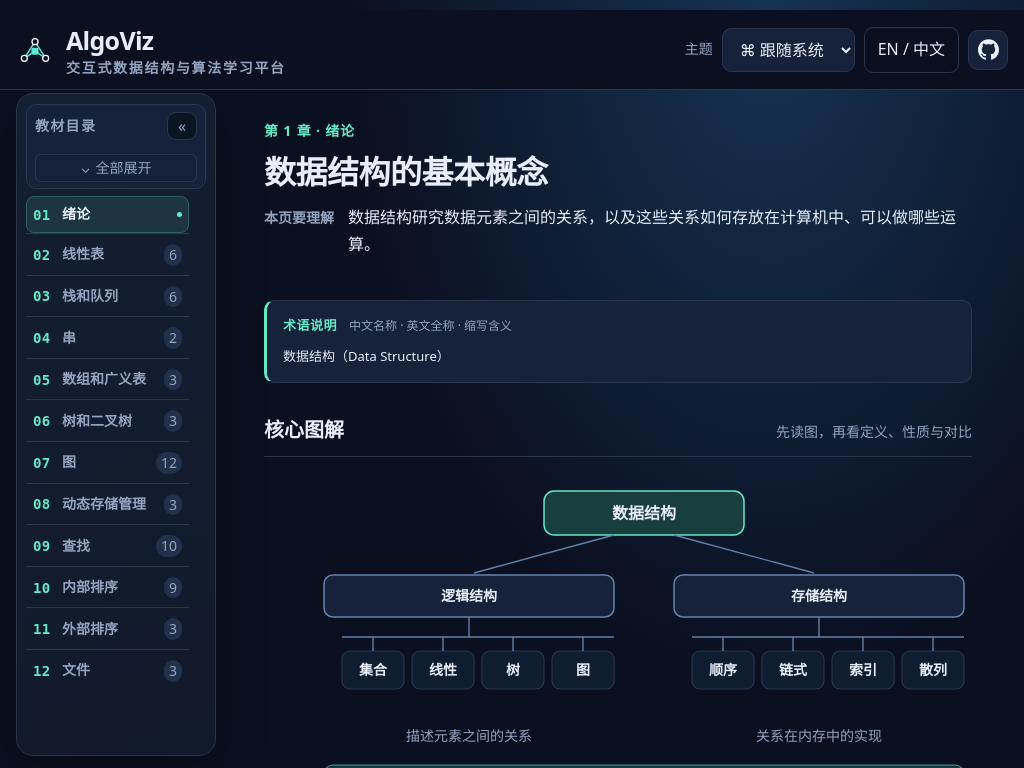
App UI regression (Phase 1) › starts on the data-structure introduction without practice or navigation
The image size is (1024, 768).
Expected: the heading with test id "concept-title" reads "数据结构的基本概念", [264,150,548,193]
Click the button "EN / 中文".
click(911, 50)  # box [864,27,959,72]
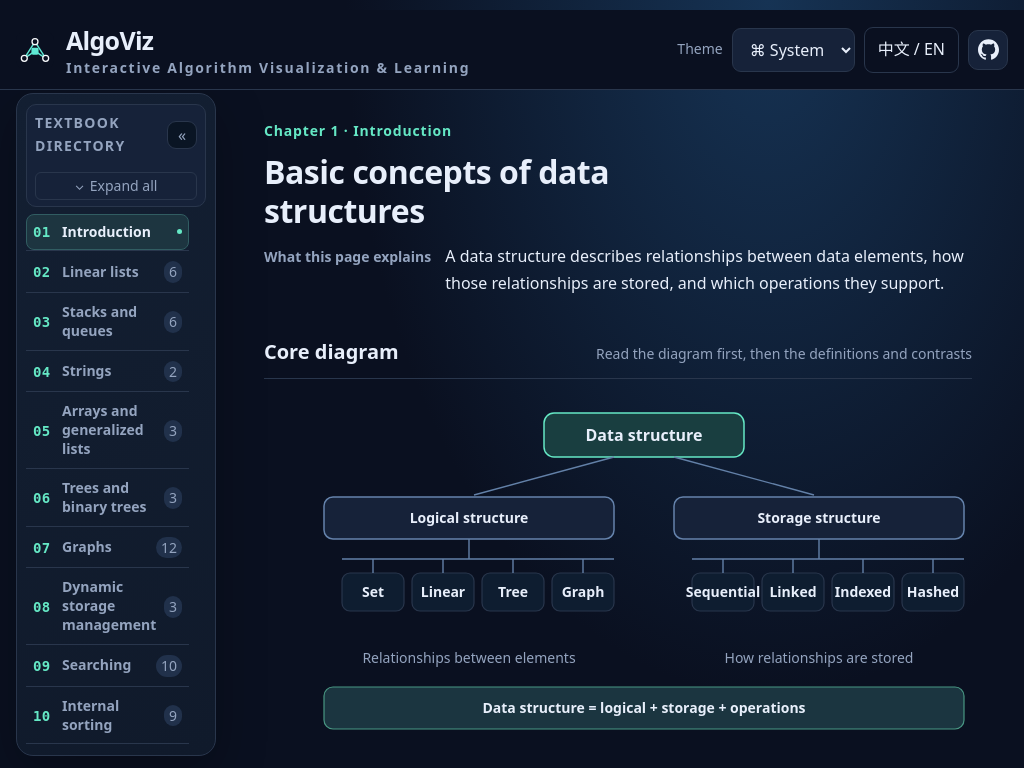
Now the heading with test id "concept-title" reads "Basic concepts of data structures", box [264,150,609,232]
